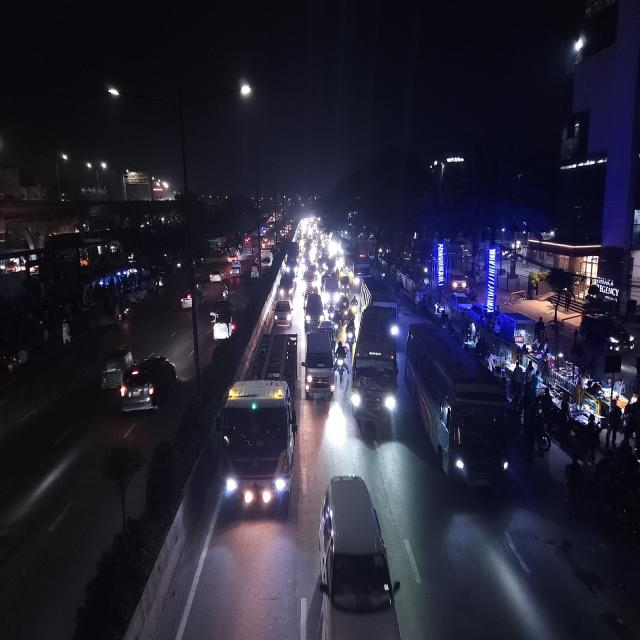bus: (406, 324, 512, 498), (350, 305, 400, 436), (570, 0, 624, 63), (360, 276, 400, 341), (346, 256, 369, 284)
car: (313, 468, 405, 640), (118, 350, 178, 420), (302, 326, 336, 403), (209, 298, 238, 346), (303, 290, 325, 328), (270, 298, 294, 328), (278, 271, 296, 300), (322, 278, 338, 308), (301, 269, 317, 292), (179, 290, 194, 313), (208, 268, 224, 283)
cng: (99, 345, 132, 394), (250, 263, 259, 280)
motorcycle: (335, 338, 348, 380), (344, 318, 356, 346), (349, 294, 358, 317), (220, 280, 230, 299)
pedestrian: (562, 456, 586, 510)
pickup_van: (228, 259, 242, 277)
truck: (219, 327, 299, 521)
